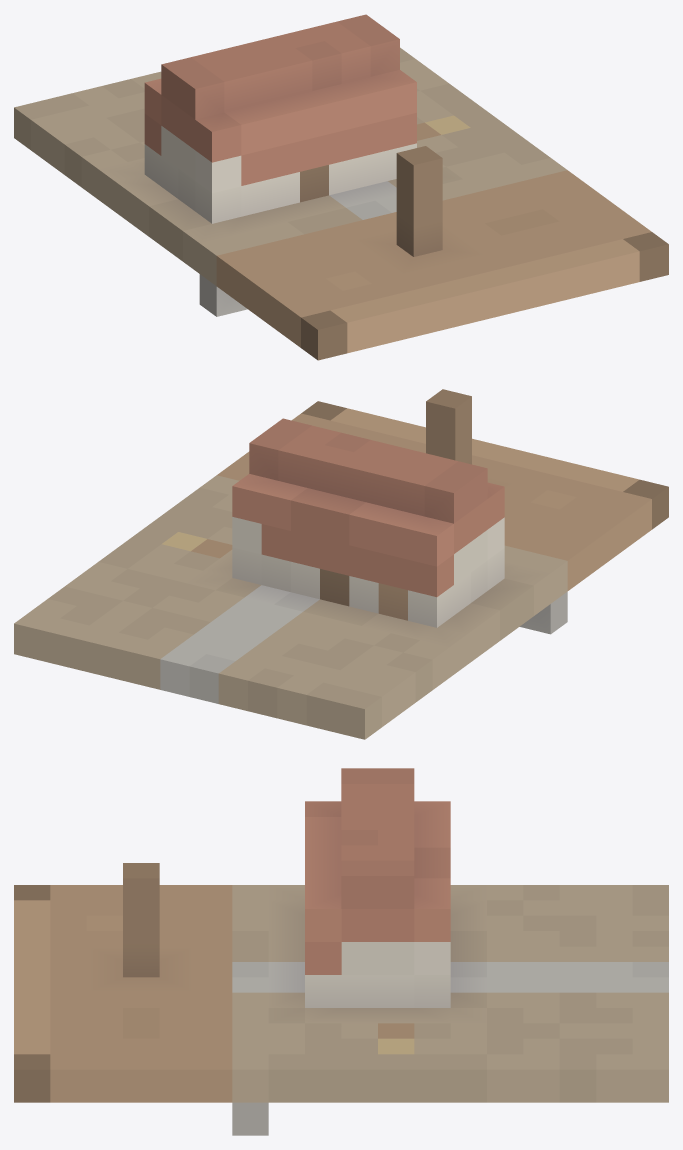
File: trading_post.l2.lite.glb
3 renders of one model, top to bottom at view 1: azimuth 30°, elevation 25°; view 2: azimuth 150°, elevation 25°; view 3: azimuth 270°, elevation 25°, orthographic. The views are drawn at different scales.
Parts seen in each view (by area): view 1: trading_post; view 2: trading_post; view 3: trading_post.
Boxes of the visible parts, x1,y1,x2,y2 form: trading_post: (14,14,668,360); trading_post: (14,389,668,739); trading_post: (14,768,668,1135).
Size of the model in its own units: 6 by 3 by 9.
